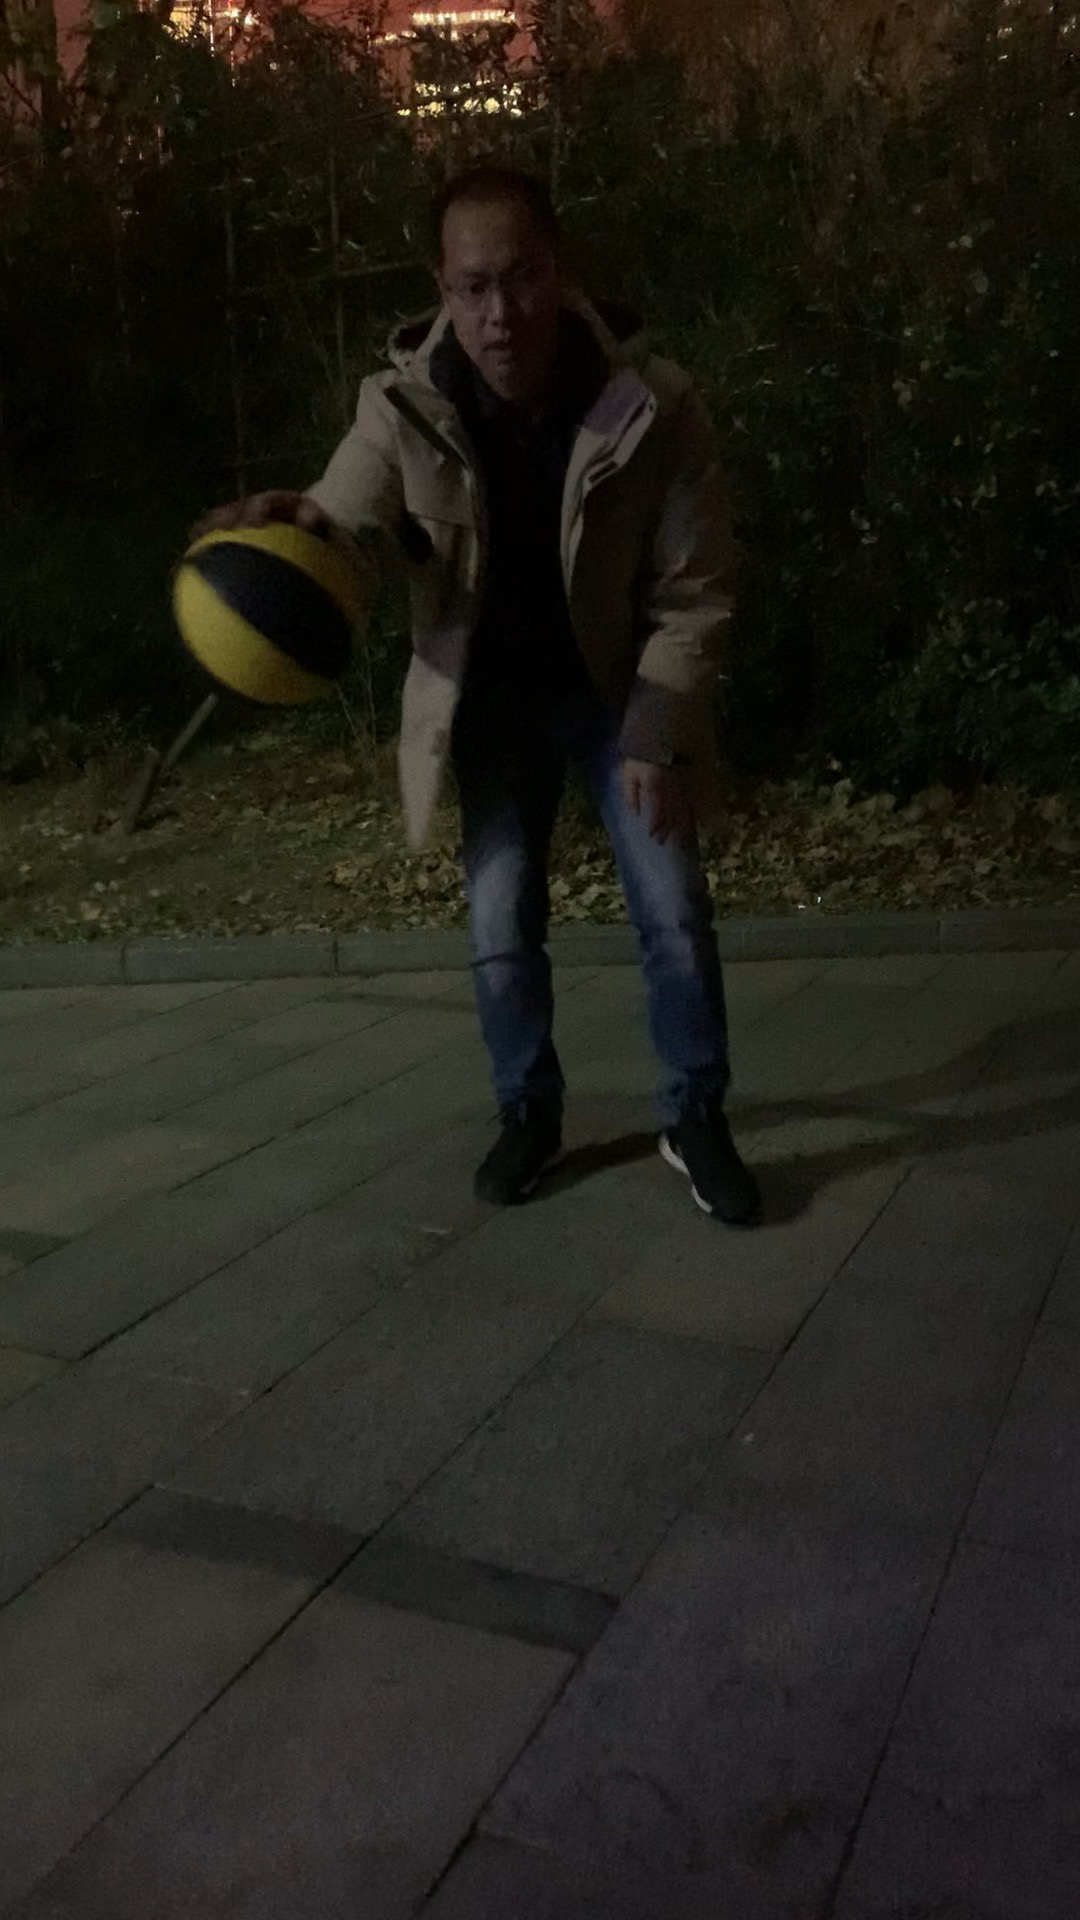ball: (173, 506, 375, 702)
